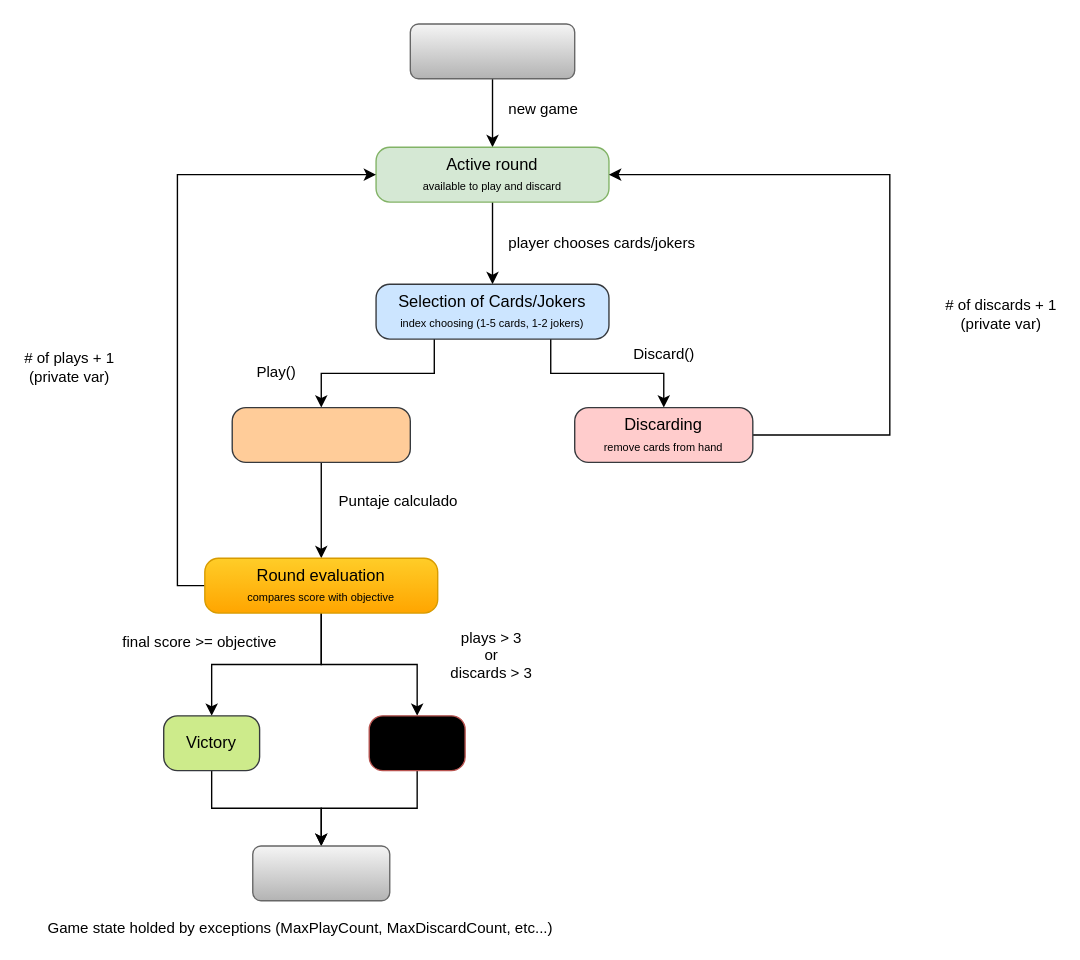
Image size: 1080x960. Some labels were removed from this diagram. The shapes that lost their labels are listed below. From the top down, each one's centre as x and y in pixels, then its label:
At point 492,51: "Game Start".
At point 320,434: "Score calculation applyScore (combinations/jokers)".
At point 320,873: "Game End".
